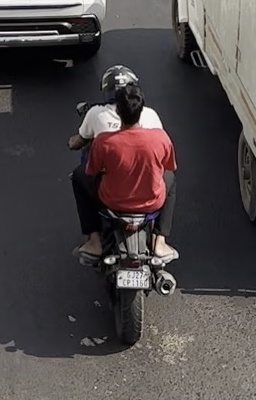BikeWithRider: (61, 60, 186, 349)
Helmet: (95, 61, 143, 106)
NoHelmet: (110, 81, 150, 132)
